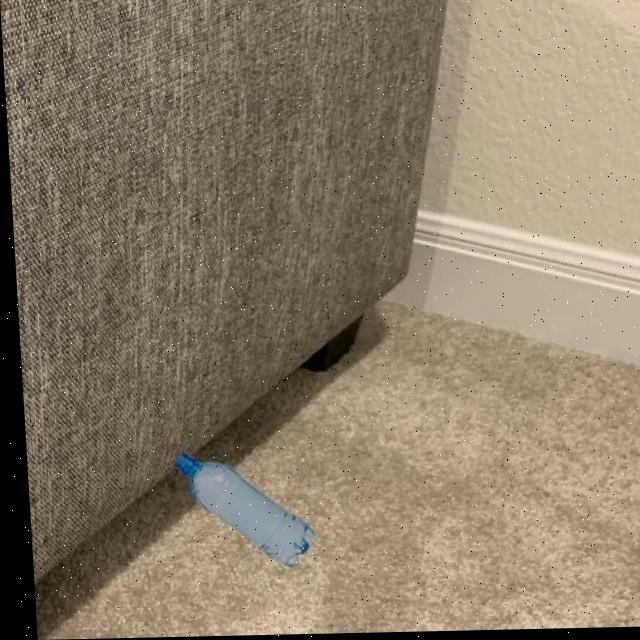bottle: (165, 449, 311, 571)
